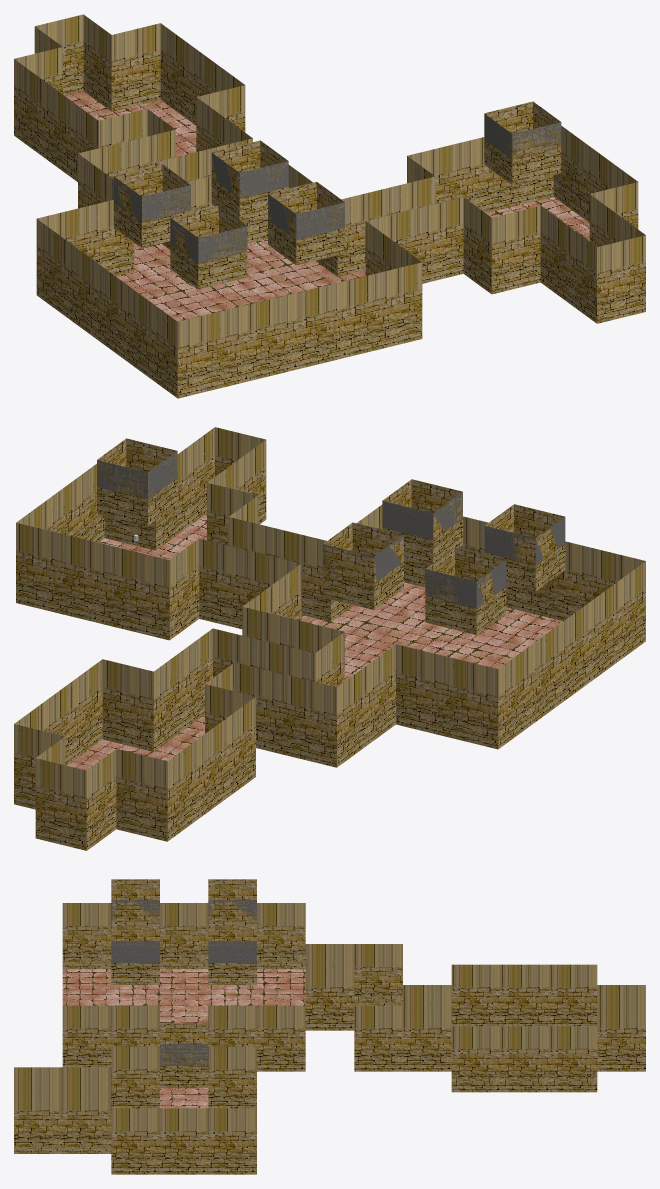
The model's file is ArtDungeonScene1.glb.
The picture shows the model from 3 angles, top to bottom: view 1: azimuth 30°, elevation 25°; view 2: azimuth 150°, elevation 25°; view 3: azimuth 270°, elevation 25°; orthographic projection. The views are drawn at different scales.
Parts seen in each view (by area): view 1: LevelMesh; view 2: LevelMesh; view 3: LevelMesh.
Boxes of the visible parts, x1,y1,x2,y2 form: LevelMesh: [14, 14, 645, 398]; LevelMesh: [14, 427, 645, 850]; LevelMesh: [14, 879, 645, 1174].
Bounding box in the file's own units: 20 × 5 × 26.
3 materials, 3 textured.
